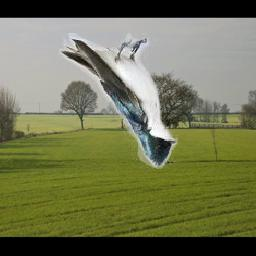Swallow: (60, 33, 179, 169)
